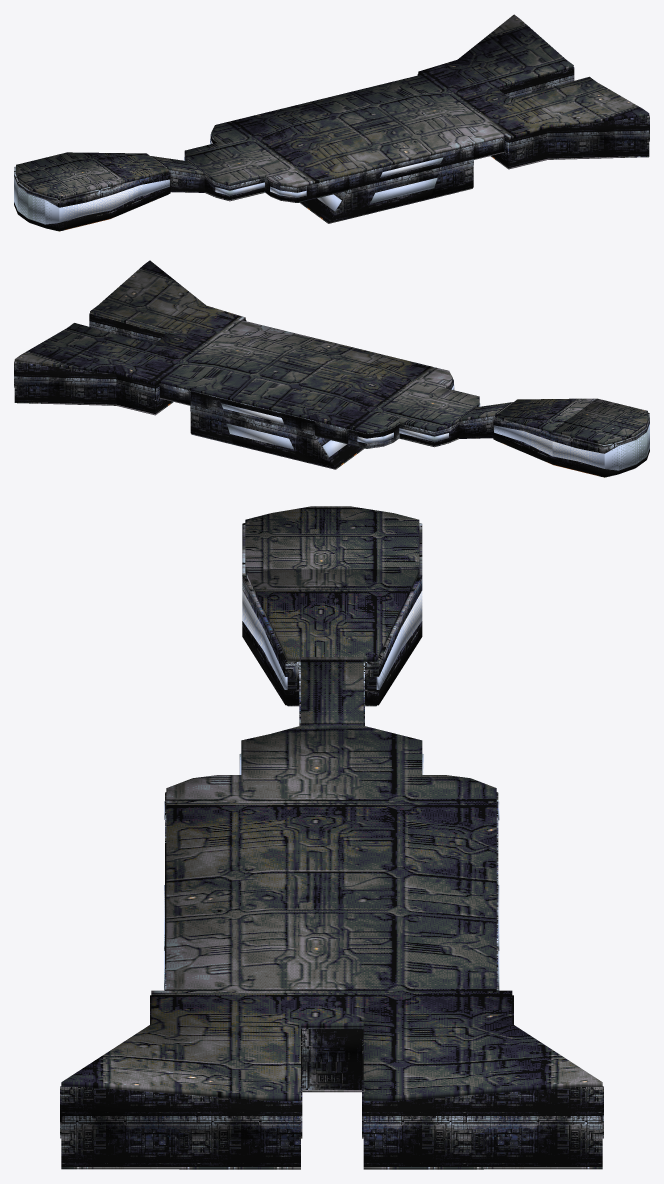
The model's file is mothership8.glb.
3 renders of one model, top to bottom at view 1: azimuth 30°, elevation 25°; view 2: azimuth 150°, elevation 25°; view 3: azimuth 270°, elevation 25°, orthographic. The views are drawn at different scales.
Visible parts, largest first — view 1: Roof-col, Interiorwalls2-col, Glass-col, Interiorwalls-col; view 2: Roof-col, Interiorwalls2-col, Glass-col, Interiorwalls-col; view 3: Roof-col, Interiorwalls2-col, Interiorwalls-col, Glass-col, Base-col.005.
Boxes of the visible parts, bbox=[...] form: Roof-col: bbox=[15, 14, 649, 198]; Interiorwalls2-col: bbox=[210, 67, 649, 222]; Glass-col: bbox=[14, 138, 443, 224]; Interiorwalls-col: bbox=[14, 156, 264, 230]; Roof-col: bbox=[14, 260, 648, 444]; Interiorwalls2-col: bbox=[14, 313, 453, 468]; Glass-col: bbox=[221, 385, 649, 470]; Interiorwalls-col: bbox=[399, 401, 649, 477]; Roof-col: bbox=[61, 506, 602, 1100]; Interiorwalls2-col: bbox=[60, 792, 603, 1166]; Interiorwalls-col: bbox=[242, 523, 422, 725]; Glass-col: bbox=[164, 591, 499, 990]; Base-col.005: bbox=[61, 1090, 602, 1169].
Bounding box in the file's own units: 247 × 31.11 × 104.
Materials: 8 (8 with a texture image).
